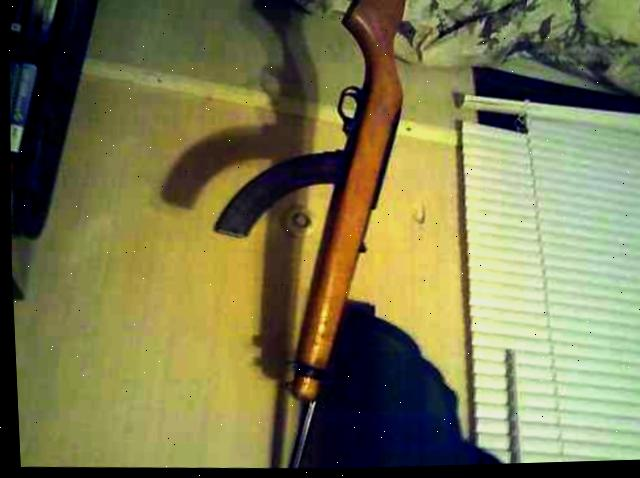rifle: (183, 0, 468, 474)
